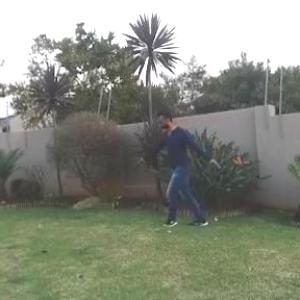land: (121, 93, 245, 245)
